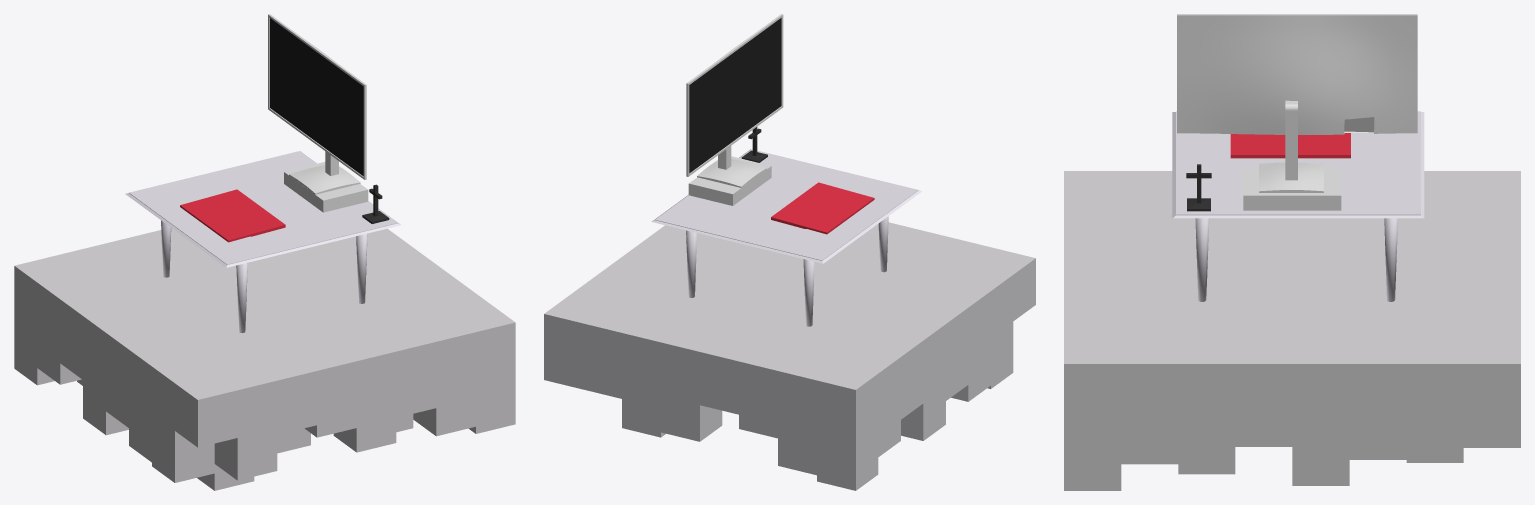
3 renders of one model, left to right at view 1: azimuth 30°, elevation 25°; view 2: azimuth 150°, elevation 25°; view 3: azimuth 270°, elevation 25°, orthographic. The views are drawn at different scales.
Visible parts, largest first — view 1: ground, tabletop, screen, laptop, legs, bottombox, base; view 2: ground, tabletop, screen, laptop, legs, bottombox, base; view 3: ground, screen, tabletop, laptop, bottombox, legs, base, spine, cross.
Part boxes in pixels (x1=…): ground: x1=14, y1=228, x2=515, y2=490; tabletop: x1=125, y1=151, x2=400, y2=267; screen: x1=268, y1=14, x2=366, y2=179; laptop: x1=180, y1=189, x2=285, y2=242; legs: x1=161, y1=220, x2=367, y2=333; bottombox: x1=284, y1=162, x2=368, y2=212; base: x1=289, y1=165, x2=360, y2=194; ground: x1=544, y1=222, x2=1035, y2=490; tabletop: x1=651, y1=149, x2=922, y2=263; screen: x1=686, y1=14, x2=783, y2=176; laptop: x1=771, y1=182, x2=874, y2=234; legs: x1=686, y1=216, x2=888, y2=326; bottombox: x1=688, y1=156, x2=771, y2=205; base: x1=697, y1=159, x2=766, y2=187; ground: x1=1064, y1=171, x2=1520, y2=490; screen: x1=1177, y1=14, x2=1417, y2=134; tabletop: x1=1172, y1=111, x2=1424, y2=218; laptop: x1=1230, y1=133, x2=1350, y2=158; bottombox: x1=1243, y1=168, x2=1341, y2=210; legs: x1=1195, y1=218, x2=1397, y2=301; base: x1=1259, y1=162, x2=1323, y2=192; spine: x1=1285, y1=100, x2=1297, y2=180; cross: x1=1186, y1=164, x2=1211, y2=211.
Bounding box in the file's own units: 23.18 × 24.23 × 23.18.
